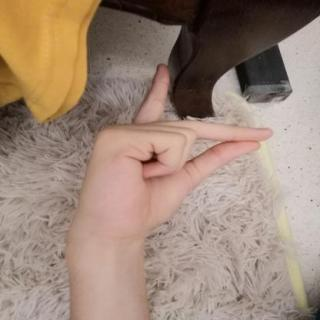TAA: (58, 55, 281, 253)
